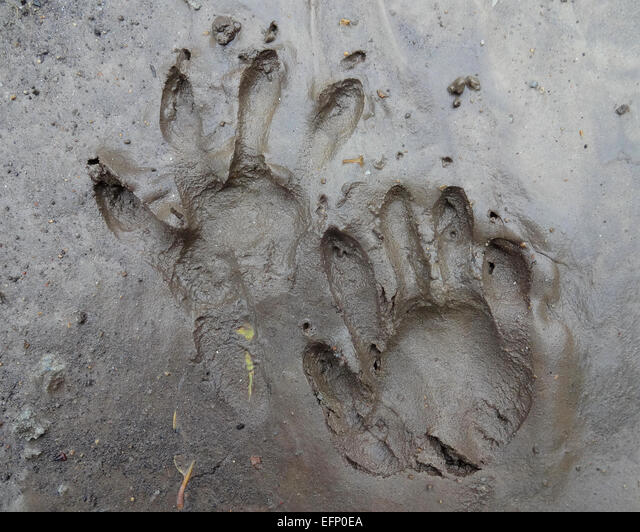raccoon: (91, 13, 357, 318), (315, 192, 558, 470)
